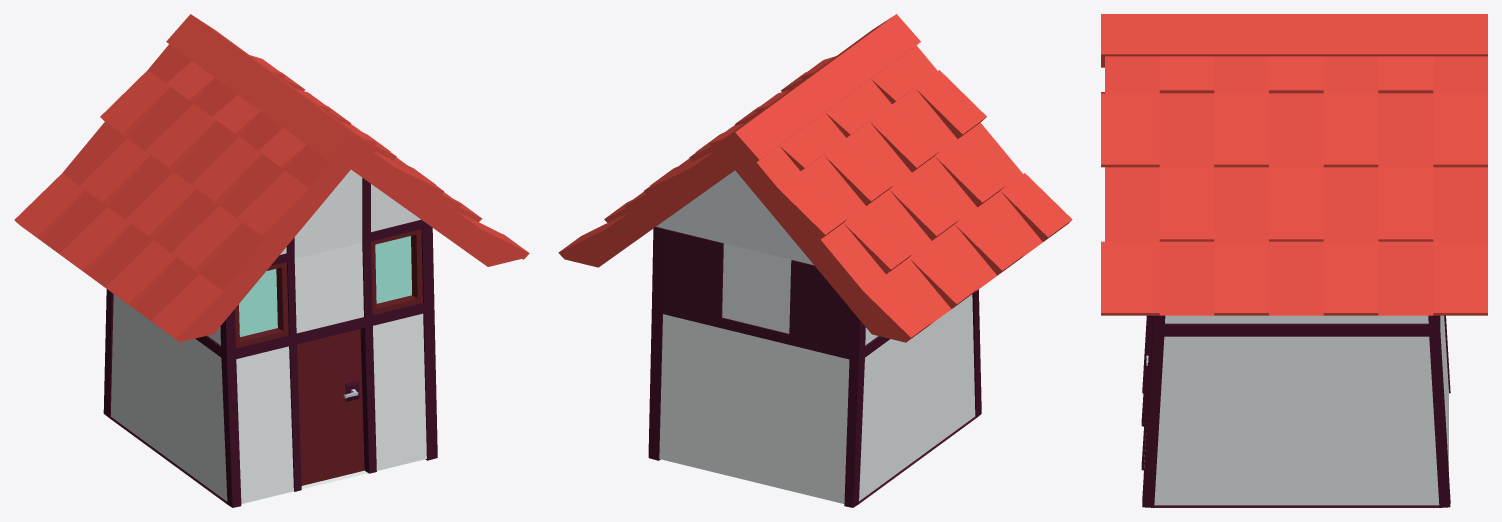
The model's file is Casa_1.fbx.
3 views of the same model, side by side, from view 1: azimuth 30°, elevation 25°; view 2: azimuth 150°, elevation 25°; view 3: azimuth 270°, elevation 25° (orthographic). The views are drawn at different scales.
Visible parts, largest first — view 1: Casa1; view 2: Casa1; view 3: Casa1.
Boxes of the visible parts, box(x1,y1,x2,y2) form: Casa1: box(14, 14, 529, 507); Casa1: box(558, 14, 1072, 507); Casa1: box(1101, 14, 1487, 507).
Bounding box in the file's own units: 8.4 × 8.26 × 6.67.
